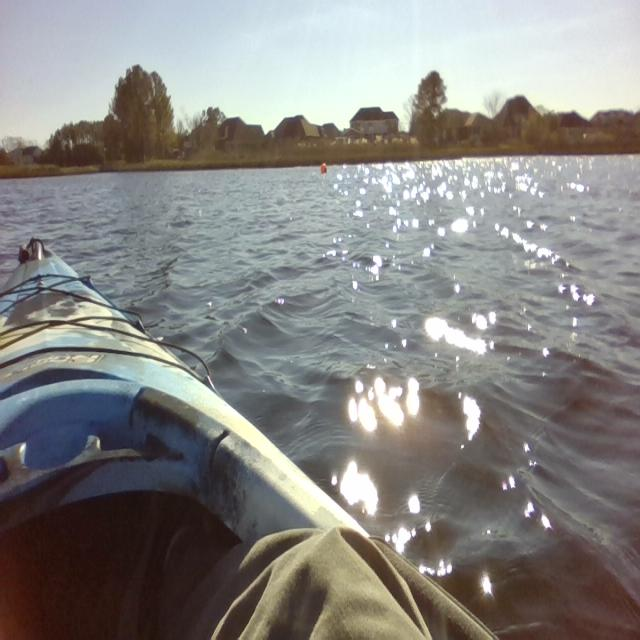Buoy: (320, 158, 328, 178)
